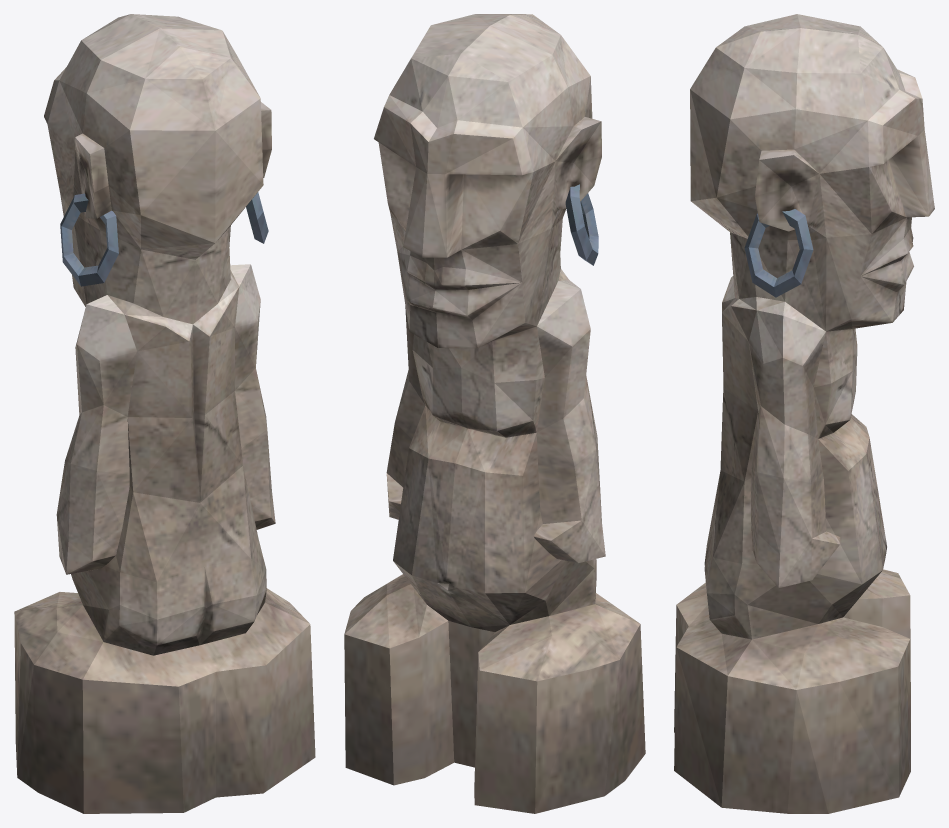
The model's file is thm_dant_totem_pole_l0.fbx.
3 views of the same model, side by side, from view 1: azimuth 30°, elevation 25°; view 2: azimuth 150°, elevation 25°; view 3: azimuth 270°, elevation 25° (orthographic).
Visible parts, largest first — view 1: mesh_node; view 2: mesh_node; view 3: mesh_node.
Part boxes in pixels (x1,y1,x2,y2): mesh_node: (14,14,315,813); mesh_node: (344,14,645,813); mesh_node: (674,14,934,813).
Bounding box in the file's own units: 2.58 × 6.98 × 2.28.
Materials: 1 (1 with a texture image).
